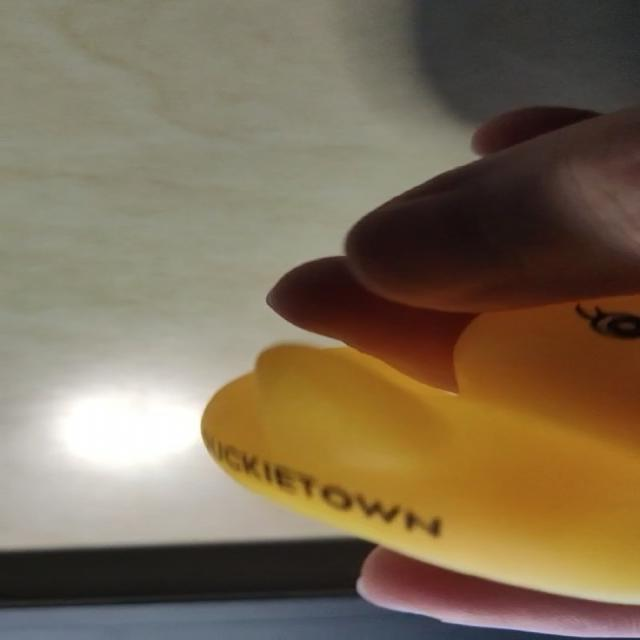rubber-duck: (201, 303, 638, 603)
